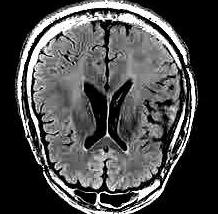Normal_Brain: (1, 1, 216, 214)
